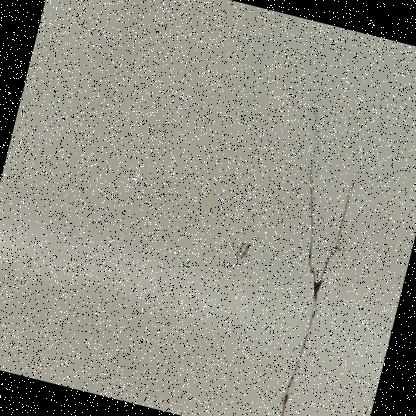Crack: (227, 50, 413, 415), (0, 208, 27, 367)
